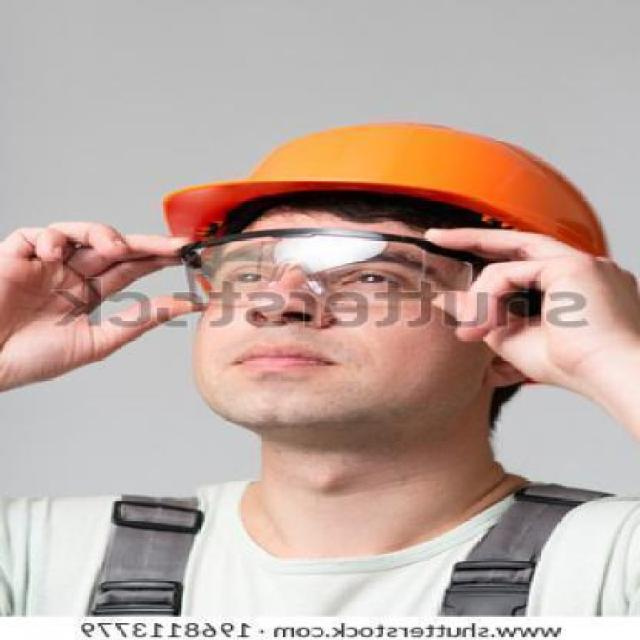face_nomask: (208, 252, 421, 393)
glasses: (176, 222, 481, 310)
hand_noglove: (415, 217, 640, 415), (0, 206, 200, 377)
head_helmet: (162, 113, 616, 270)
